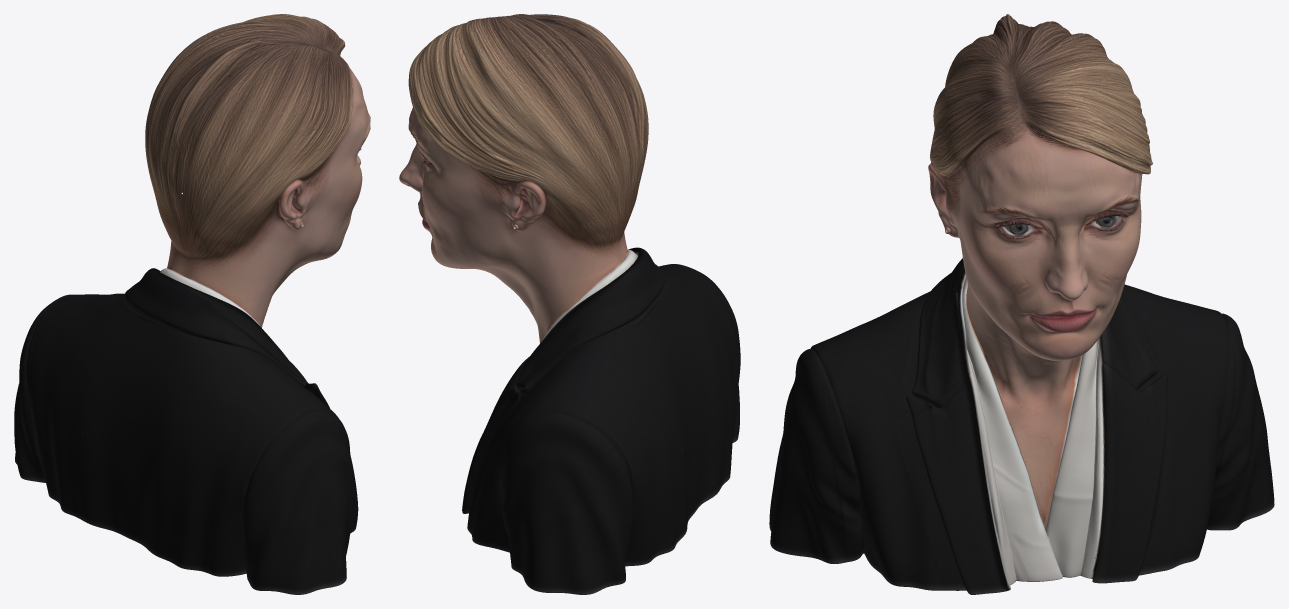
Rendered from provider-original.glb.
3 views of the same model, side by side, from view 1: azimuth 30°, elevation 25°; view 2: azimuth 150°, elevation 25°; view 3: azimuth 270°, elevation 25° (orthographic). The views are drawn at different scales.
Visible parts, largest first — view 1: tripo_node_385684b8-777c-4916-b7d8-df5140e3ae68; view 2: tripo_node_385684b8-777c-4916-b7d8-df5140e3ae68; view 3: tripo_node_385684b8-777c-4916-b7d8-df5140e3ae68.
Boxes of the visible parts, bbox=[...] form: tripo_node_385684b8-777c-4916-b7d8-df5140e3ae68: bbox=[14, 14, 370, 594]; tripo_node_385684b8-777c-4916-b7d8-df5140e3ae68: bbox=[399, 14, 740, 594]; tripo_node_385684b8-777c-4916-b7d8-df5140e3ae68: bbox=[769, 14, 1274, 594].
Size of the model in its own units: 0.6423 by 1 by 0.8603.
Materials: 1 (1 with a texture image).
